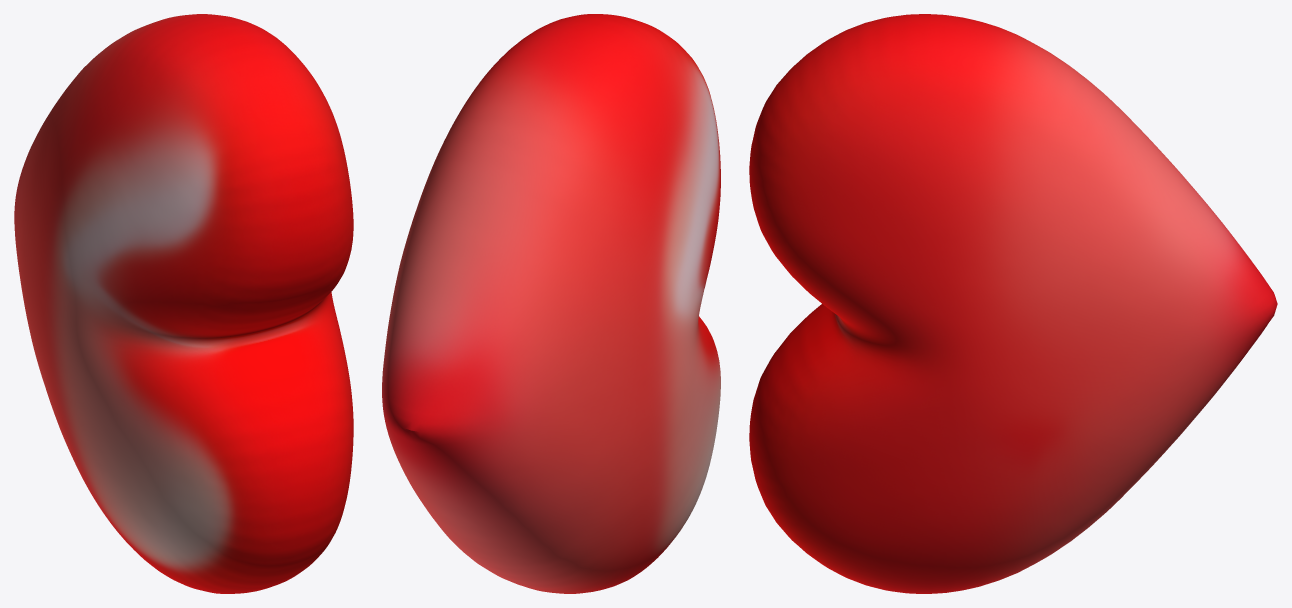
Rendered from RedHeart.obj.
3 views of the same model, side by side, from view 1: azimuth 30°, elevation 25°; view 2: azimuth 150°, elevation 25°; view 3: azimuth 270°, elevation 25° (orthographic).
Parts seen in each view (by area): view 1: model; view 2: model; view 3: model.
Boxes of the visible parts, <box> form: model: <box>14,14,353,593</box>; model: <box>382,14,720,593</box>; model: <box>749,14,1277,593</box>.
Bounding box in the file's own units: 0.8974 × 1.9 × 1.63.
1 material, 1 textured.
